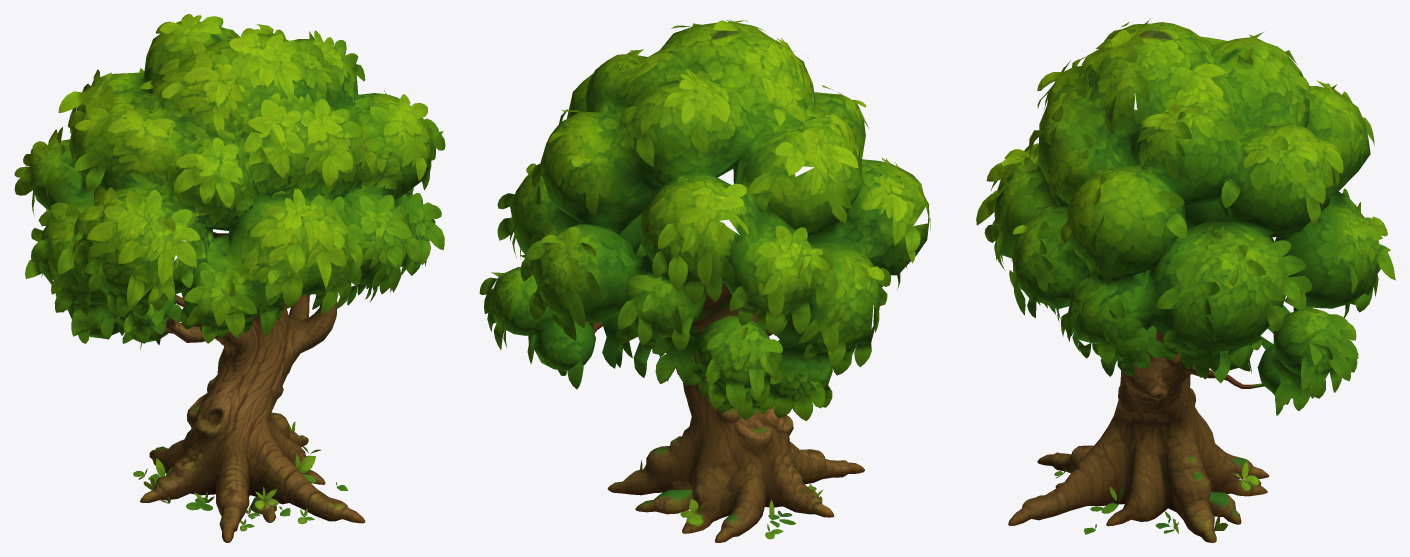
The model's file is tree_broadleaf.glb.
3 renders of one model, left to right at view 1: azimuth 30°, elevation 25°; view 2: azimuth 150°, elevation 25°; view 3: azimuth 270°, elevation 25°, orthographic. The views are drawn at different scales.
Parts seen in each view (by area): view 1: tripo_15bf6158_349c_47ee_bbfe_4136e4a38edb; view 2: tripo_15bf6158_349c_47ee_bbfe_4136e4a38edb; view 3: tripo_15bf6158_349c_47ee_bbfe_4136e4a38edb.
Boxes of the visible parts, x1=… form: tripo_15bf6158_349c_47ee_bbfe_4136e4a38edb: x1=14, y1=14, x2=445, y2=542; tripo_15bf6158_349c_47ee_bbfe_4136e4a38edb: x1=479, y1=19, x2=930, y2=542; tripo_15bf6158_349c_47ee_bbfe_4136e4a38edb: x1=976, y1=18, x2=1395, y2=542.
Bounding box in the file's own units: 0.8569 × 0.9995 × 0.7964.
Materials: 1 (1 with a texture image).
